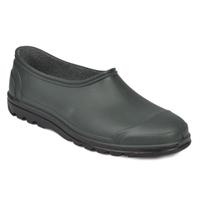shoe: (7, 46, 192, 157)
